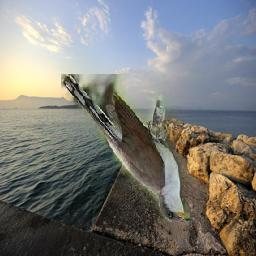Cuckoo: (62, 74, 191, 222)
